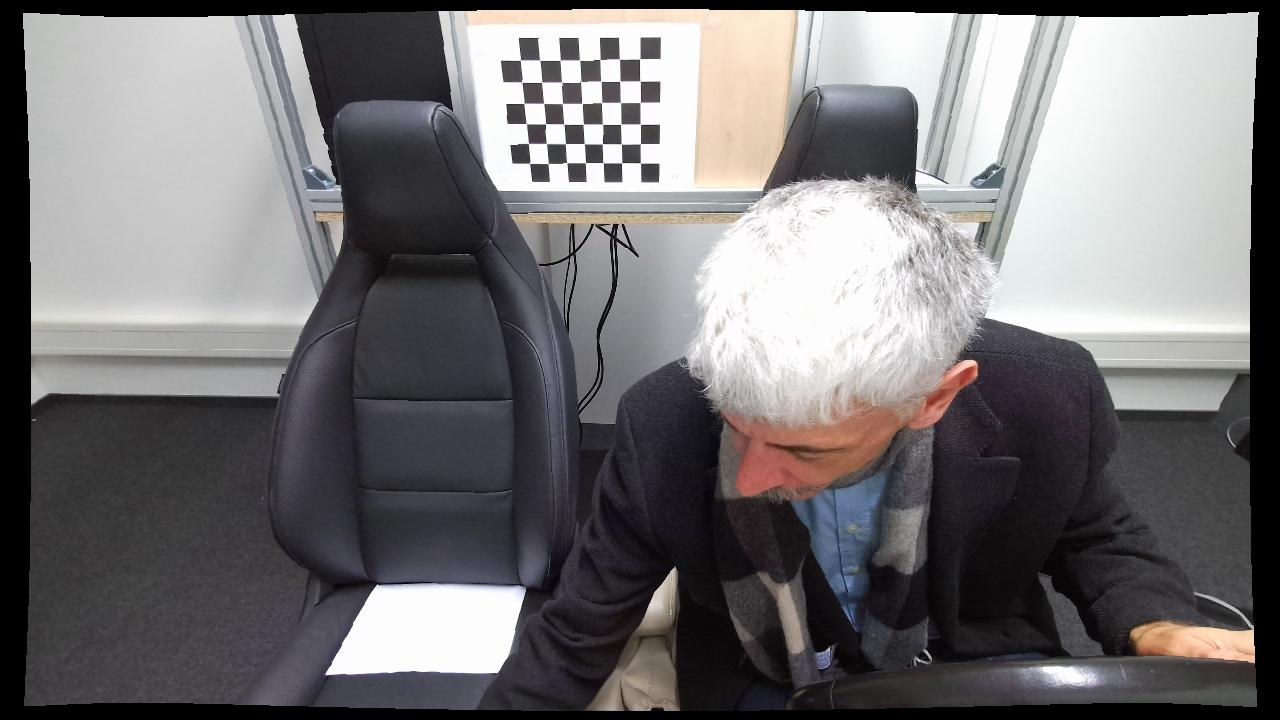Distracted: (473, 172, 1133, 708)
